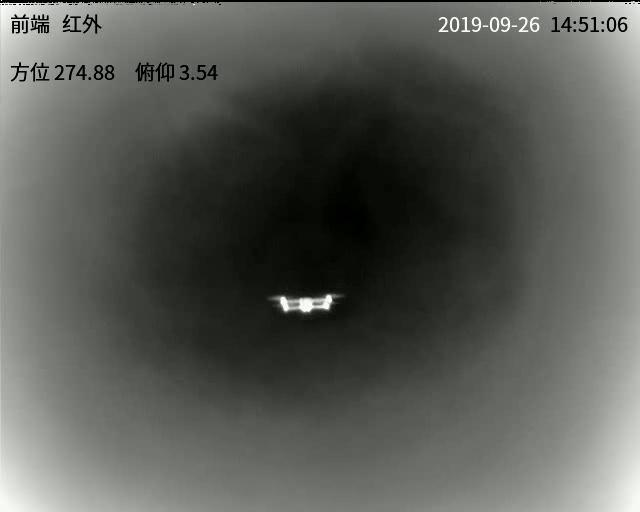DRONE: (273, 292, 338, 313)
